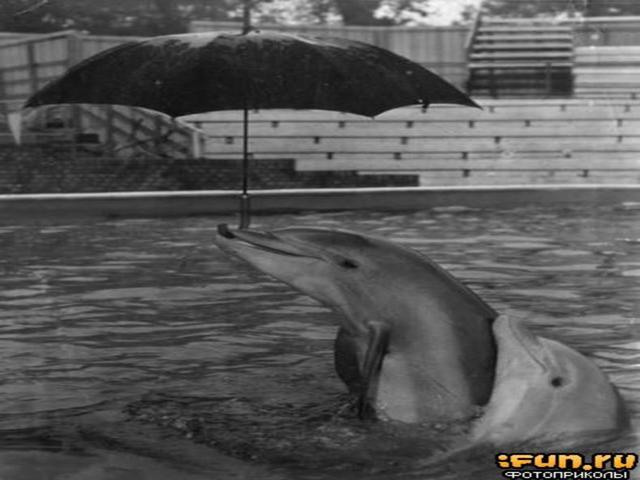dolphin: (189, 180, 519, 416)
